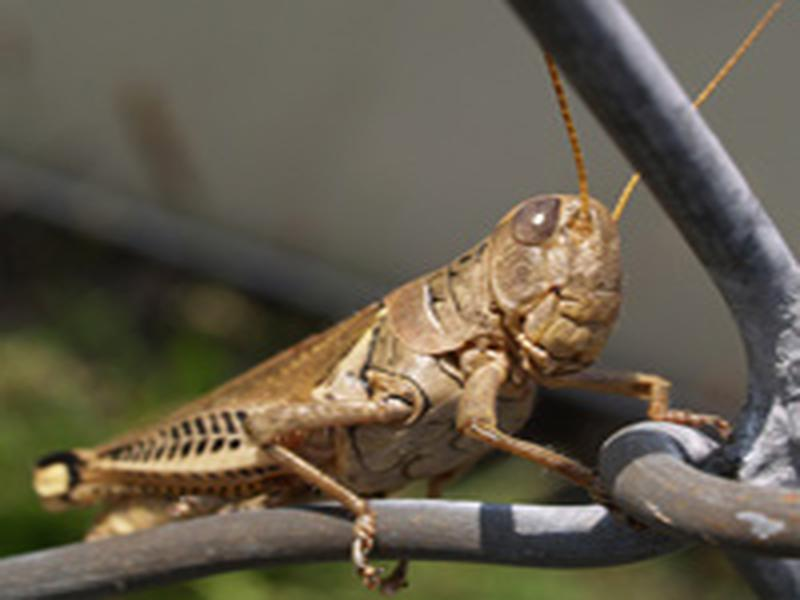Grasshopper: (43, 181, 638, 524)
